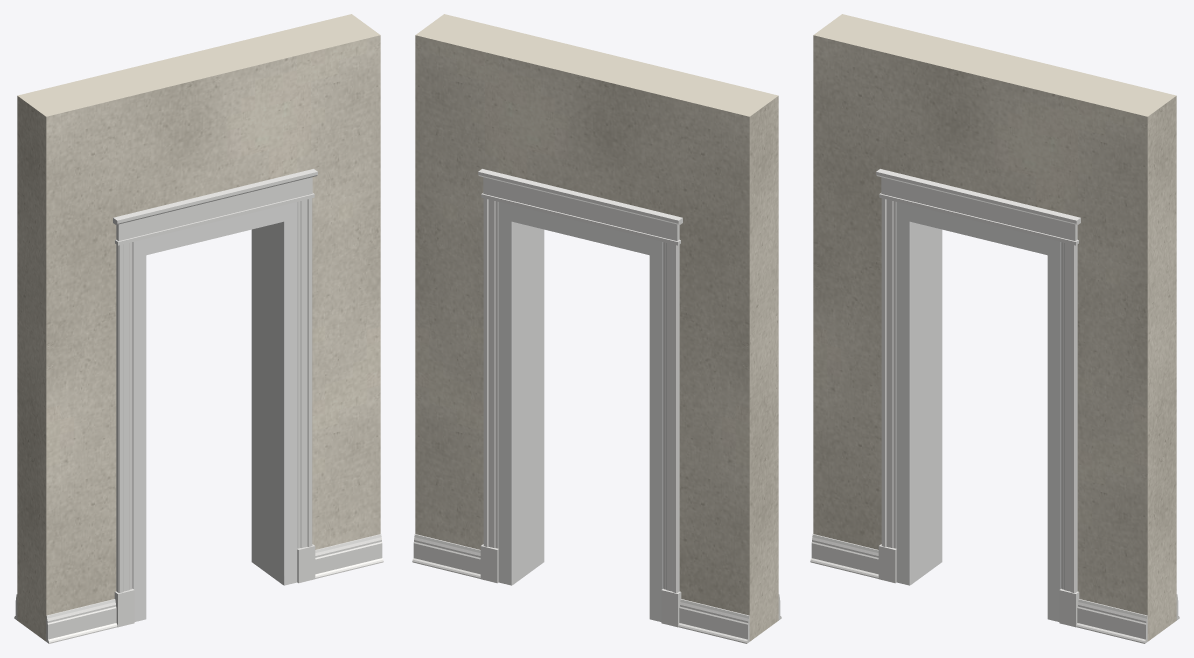
The model's file is wall_hall_party_door.glb.
The picture shows the model from 3 angles, left to right: view 1: azimuth 30°, elevation 25°; view 2: azimuth 150°, elevation 25°; view 3: azimuth 330°, elevation 25°; orthographic projection.
Parts seen in each view (by area): view 1: wall_hall_party_door_plaster, wall_hall_party_door_frame, molduras; view 2: wall_hall_party_door_plaster, wall_hall_party_door_frame, molduras; view 3: wall_hall_party_door_plaster, wall_hall_party_door_frame, molduras.
Boxes of the visible parts, x1=… form: wall_hall_party_door_plaster: x1=17, y1=14, x2=380, y2=641; wall_hall_party_door_frame: x1=132, y1=202, x2=297, y2=621; molduras: x1=14, y1=169, x2=383, y2=643; wall_hall_party_door_plaster: x1=415, y1=14, x2=778, y2=641; wall_hall_party_door_frame: x1=498, y1=202, x2=663, y2=621; molduras: x1=412, y1=169, x2=781, y2=643; wall_hall_party_door_plaster: x1=813, y1=14, x2=1176, y2=641; wall_hall_party_door_frame: x1=896, y1=202, x2=1061, y2=621; molduras: x1=810, y1=169, x2=1179, y2=643.
Size of the model in its own units: 2 by 3 by 0.384.
3 materials, 1 textured.
